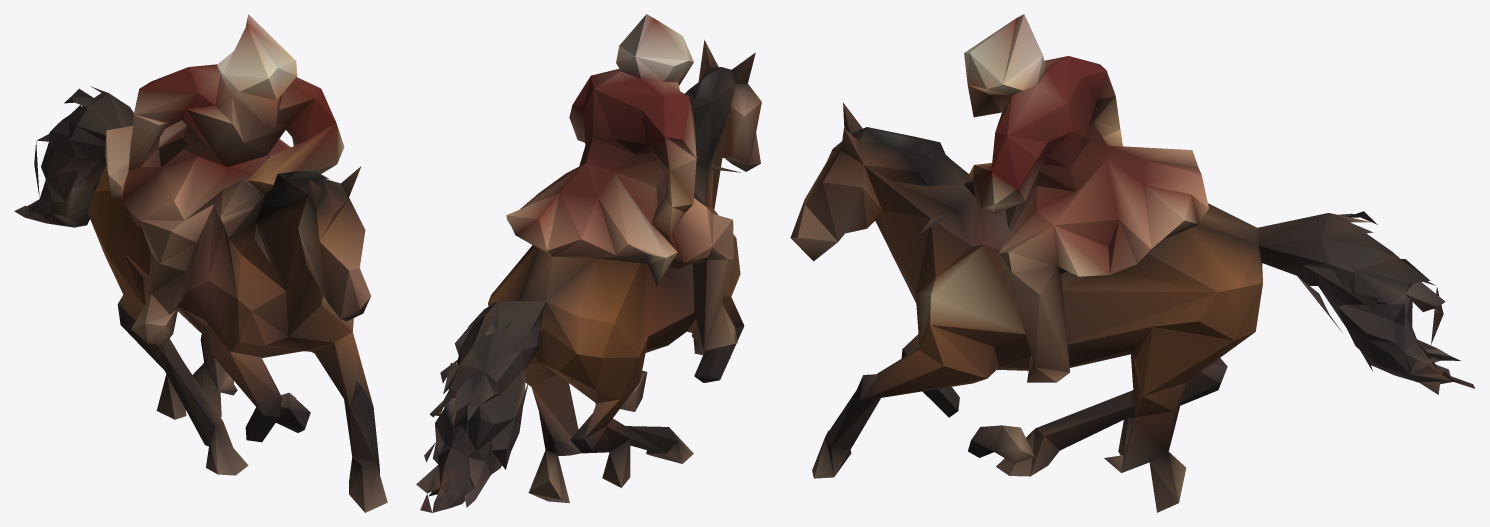
The model's file is kokpar-rider.far.glb.
The picture shows the model from 3 angles, left to right: view 1: azimuth 30°, elevation 25°; view 2: azimuth 150°, elevation 25°; view 3: azimuth 270°, elevation 25°; orthographic projection. The views are drawn at different scales.
Size of the model in its own units: 1.19 by 2.5 by 3.23.
